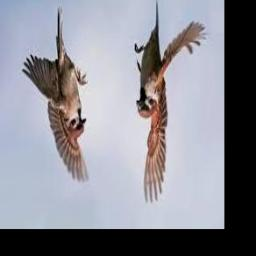Sparrow: (133, 1, 208, 203), (21, 5, 89, 183)
